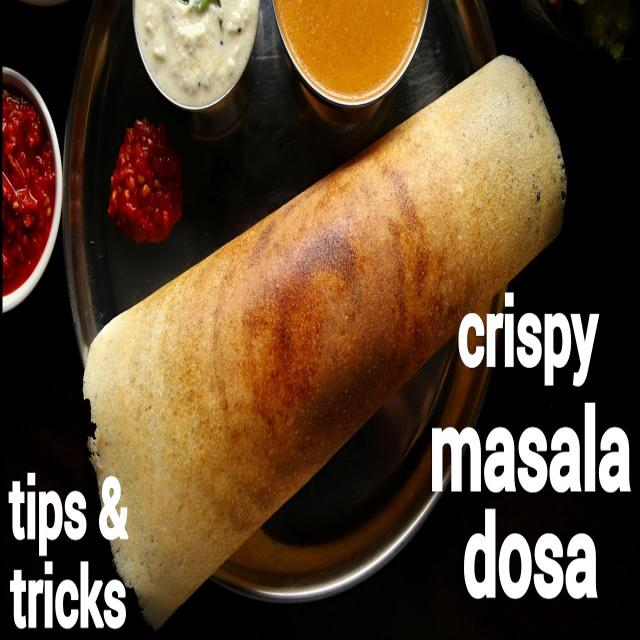Wet Waste: (87, 63, 561, 621), (132, 0, 264, 119)
